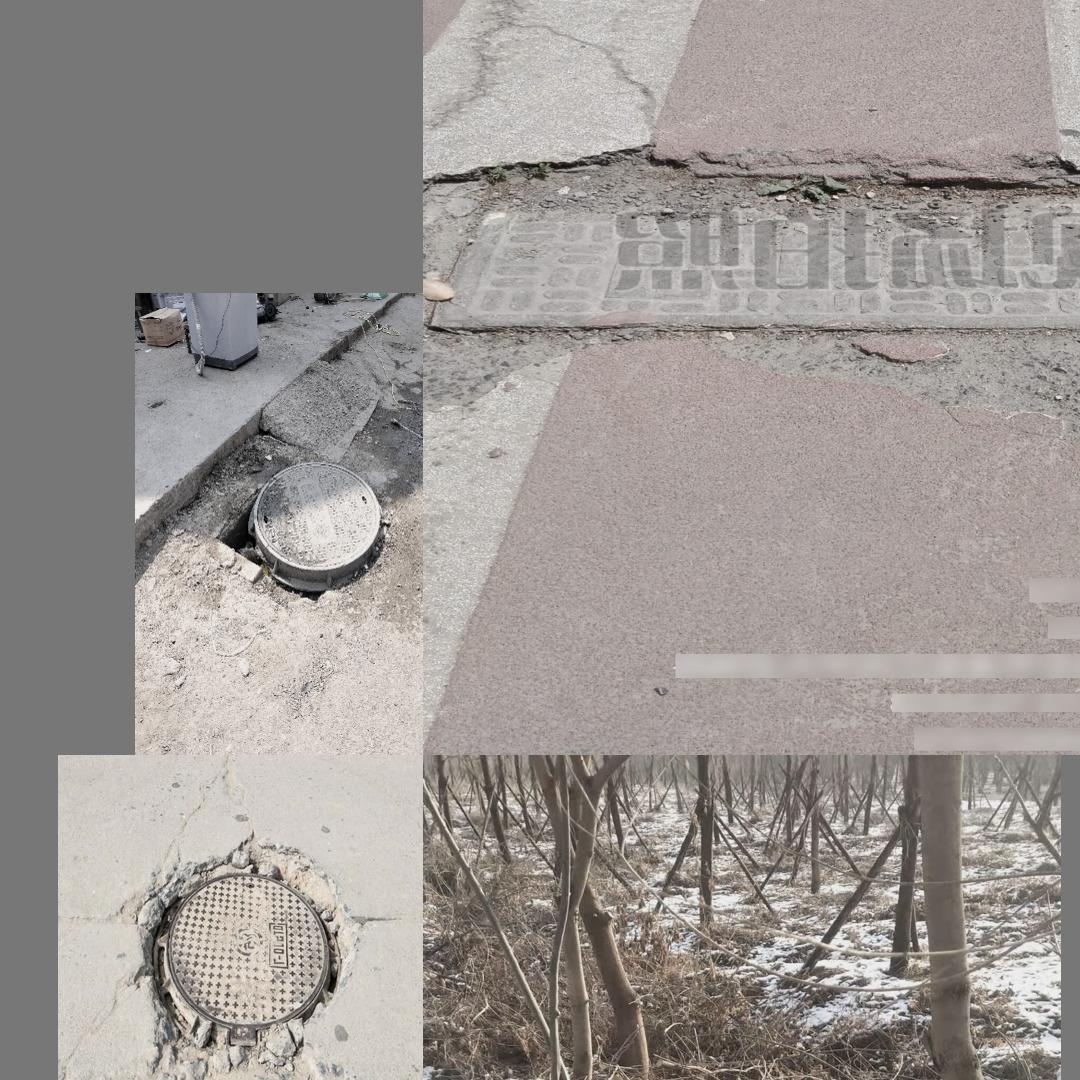circle: (423, 164, 1080, 342), (121, 833, 369, 1080), (229, 453, 388, 596)
